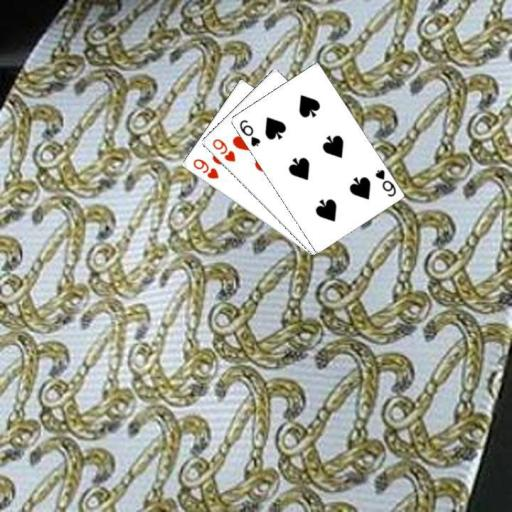6S: (236, 116, 262, 148), (372, 167, 397, 199)
9H: (189, 155, 220, 181), (209, 136, 237, 163)
